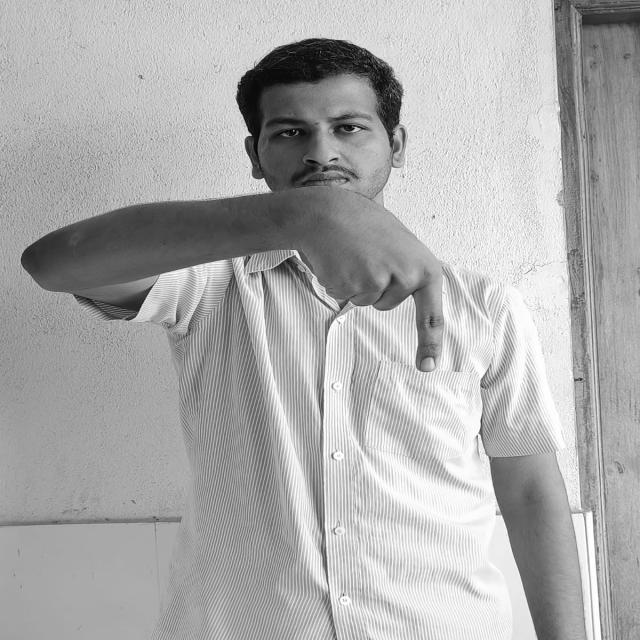Now: (299, 196, 450, 378)
